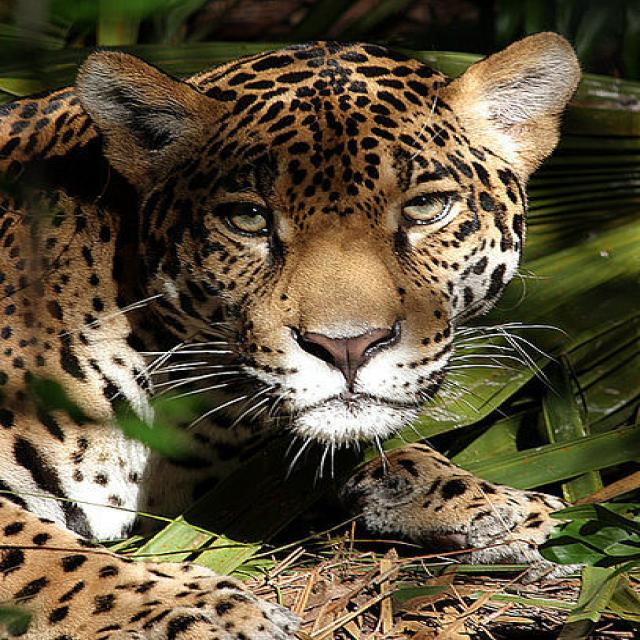Leopard: (0, 26, 582, 636)
